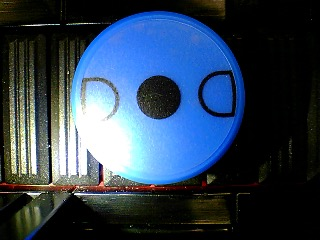BOHOMIPO2: (70, 9, 245, 186)
